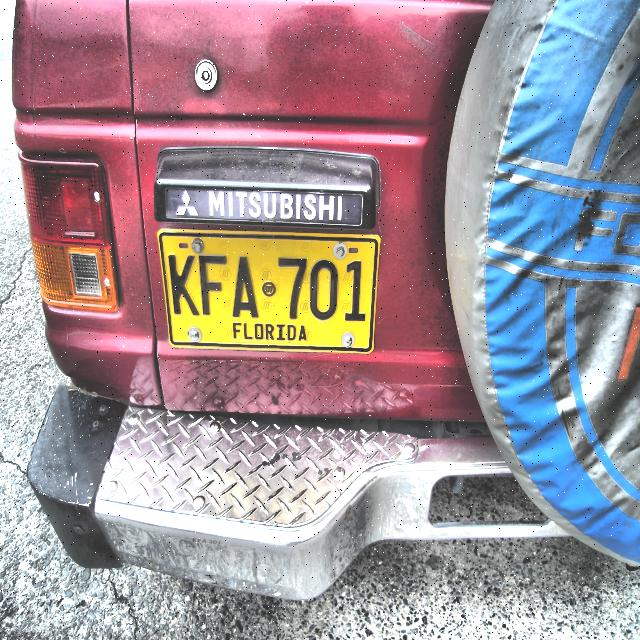0: (308, 256, 341, 323)
1: (342, 258, 368, 328)
7: (276, 254, 308, 320)
A: (230, 252, 261, 320)
F: (197, 253, 228, 318)
K: (167, 254, 200, 317)
